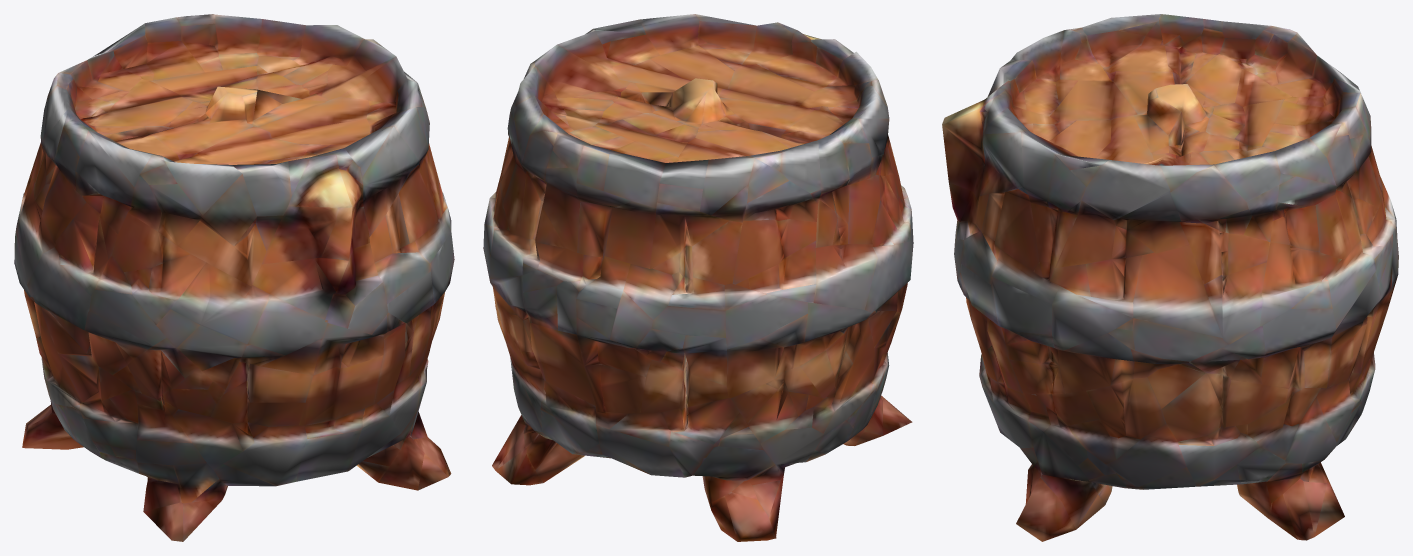
File: wine-barrel.glb
3 renders of one model, left to right at view 1: azimuth 30°, elevation 25°; view 2: azimuth 150°, elevation 25°; view 3: azimuth 270°, elevation 25°, orthographic. The views are drawn at different scales.
Parts seen in each view (by area): view 1: Mesh_0; view 2: Mesh_0; view 3: Mesh_0.
Part boxes in pixels (box(x1,y1,x2,y2)): Mesh_0: box(14, 14, 454, 541); Mesh_0: box(483, 14, 913, 541); Mesh_0: box(942, 14, 1398, 541).
Size of the model in its own units: 0.7451 by 0.6998 by 0.7655.
Materials: 1 (1 with a texture image).
